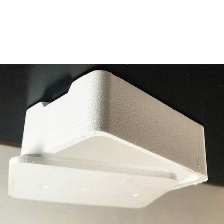foam_box: (3, 66, 211, 213)
